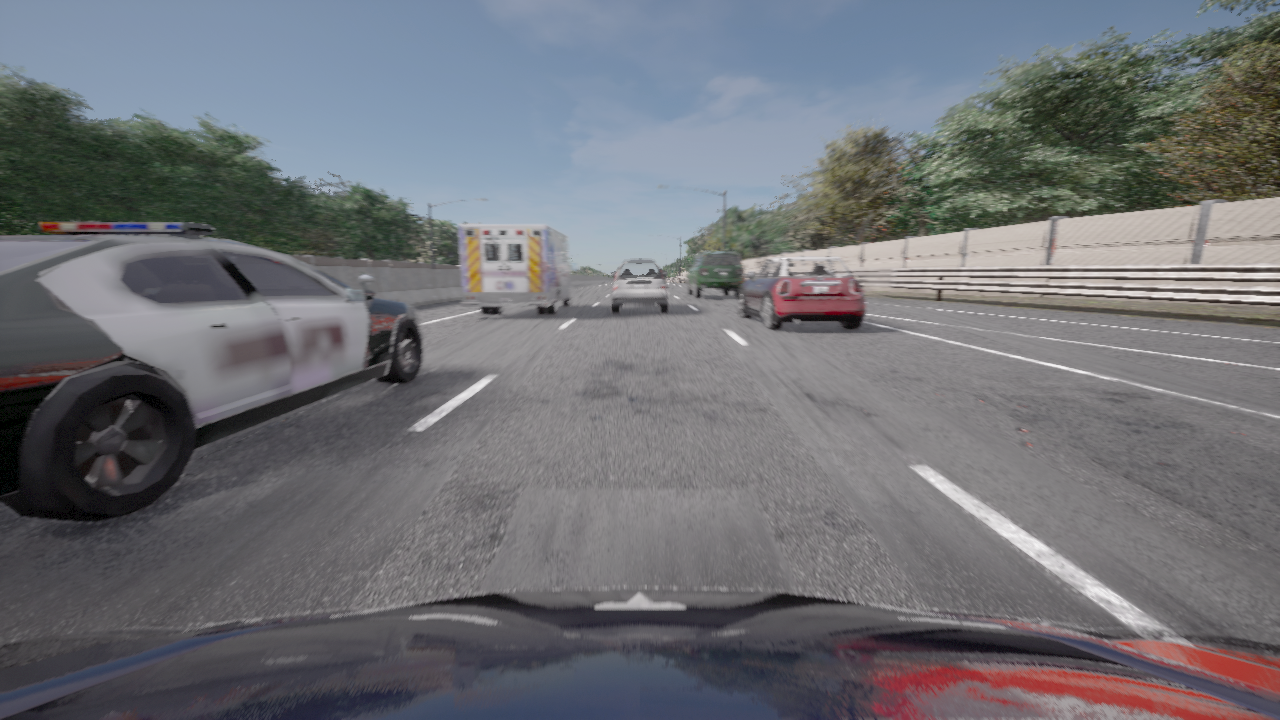cyclist: (0, 588, 1279, 719), (0, 223, 422, 522), (458, 224, 577, 314), (738, 257, 864, 330), (610, 259, 667, 313), (687, 252, 744, 298)
